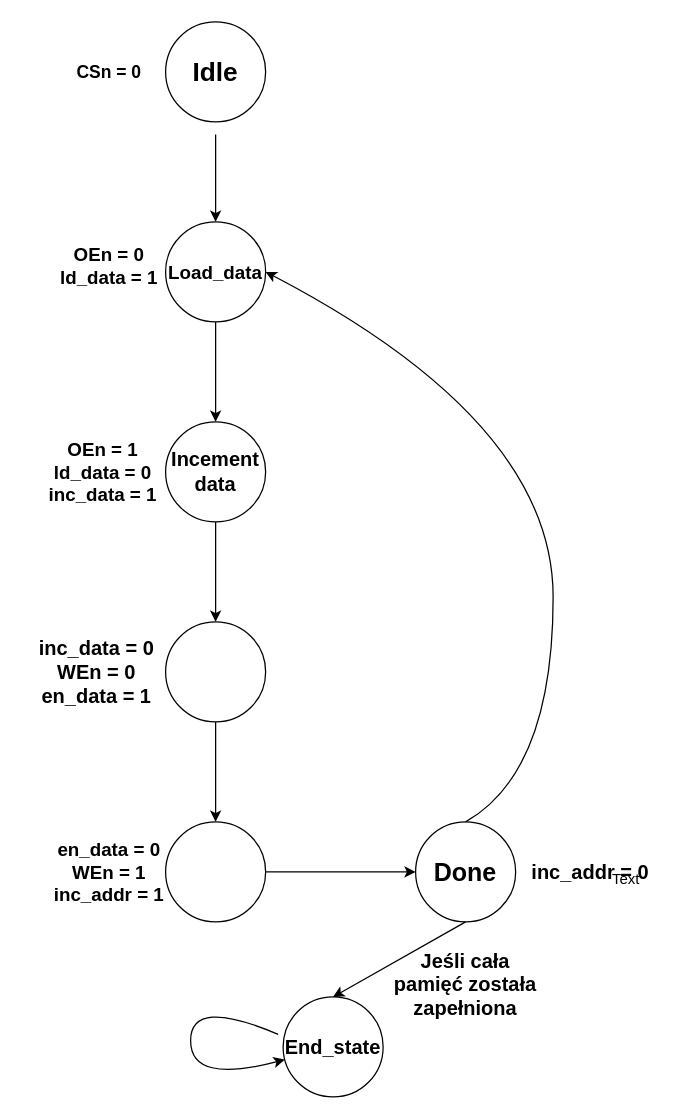
The diagram is 674 pixels wide and 1119 high, and some of its shapes have lost their labels. Here are the shapes that lost their labels. From the top down, the box of each, then its label:
(164, 621, 266, 722): Save data
(164, 821, 266, 922): Next addr
